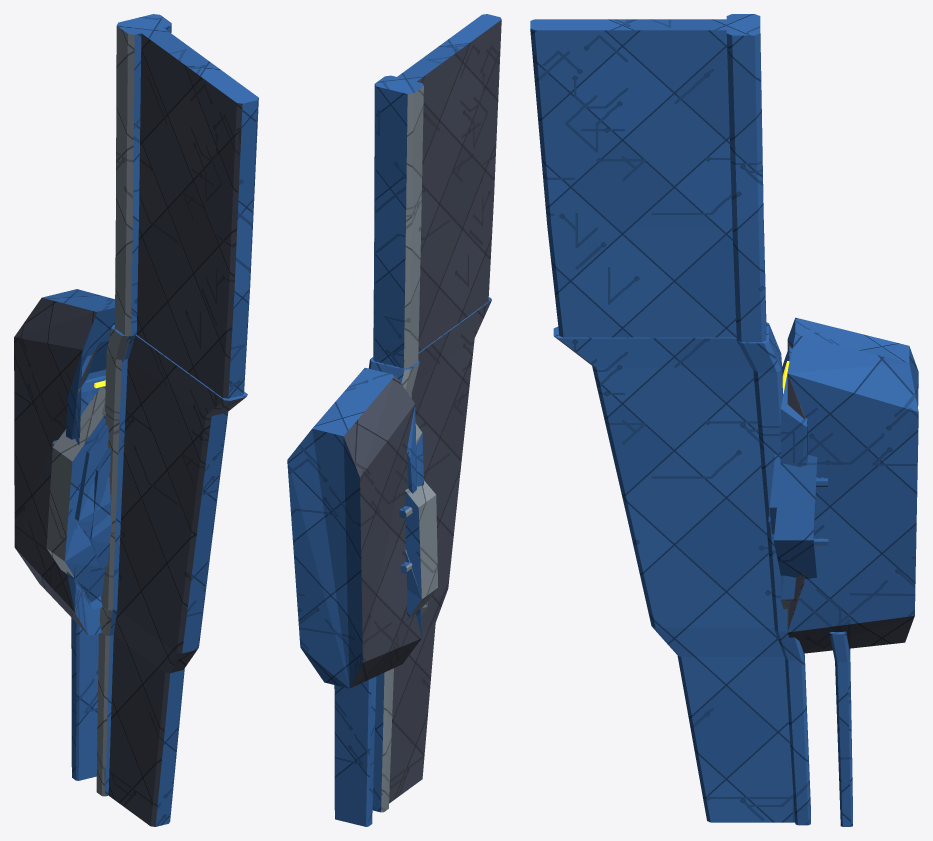
The model's file is RightBasicHandArmW.glb.
3 renders of one model, left to right at view 1: azimuth 30°, elevation 25°; view 2: azimuth 150°, elevation 25°; view 3: azimuth 270°, elevation 25°, orthographic. The views are drawn at different scales.
Visible parts, largest first — view 1: RightBasicHandArmW_Fore, RightBasicHandArmW_Upper, RightBasicHandArmW_Fist; view 2: RightBasicHandArmW_Fore, RightBasicHandArmW_Upper, RightBasicHandArmW_Fist; view 3: RightBasicHandArmW_Fore, RightBasicHandArmW_Upper, RightBasicHandArmW_Fist.
Boxes of the visible parts, x1,y1,x2,y2 form: RightBasicHandArmW_Fore: (14, 289, 247, 826); RightBasicHandArmW_Upper: (115, 14, 258, 398); RightBasicHandArmW_Fist: (71, 618, 98, 780); RightBasicHandArmW_Fore: (287, 297, 491, 812); RightBasicHandArmW_Upper: (373, 14, 501, 368); RightBasicHandArmW_Fist: (334, 676, 376, 826); RightBasicHandArmW_Fore: (553, 317, 918, 825); RightBasicHandArmW_Upper: (530, 14, 766, 369); RightBasicHandArmW_Fist: (829, 631, 852, 826).
Size of the model in its own units: 2.19 by 14.76 by 6.55.
4 materials, 3 textured.
